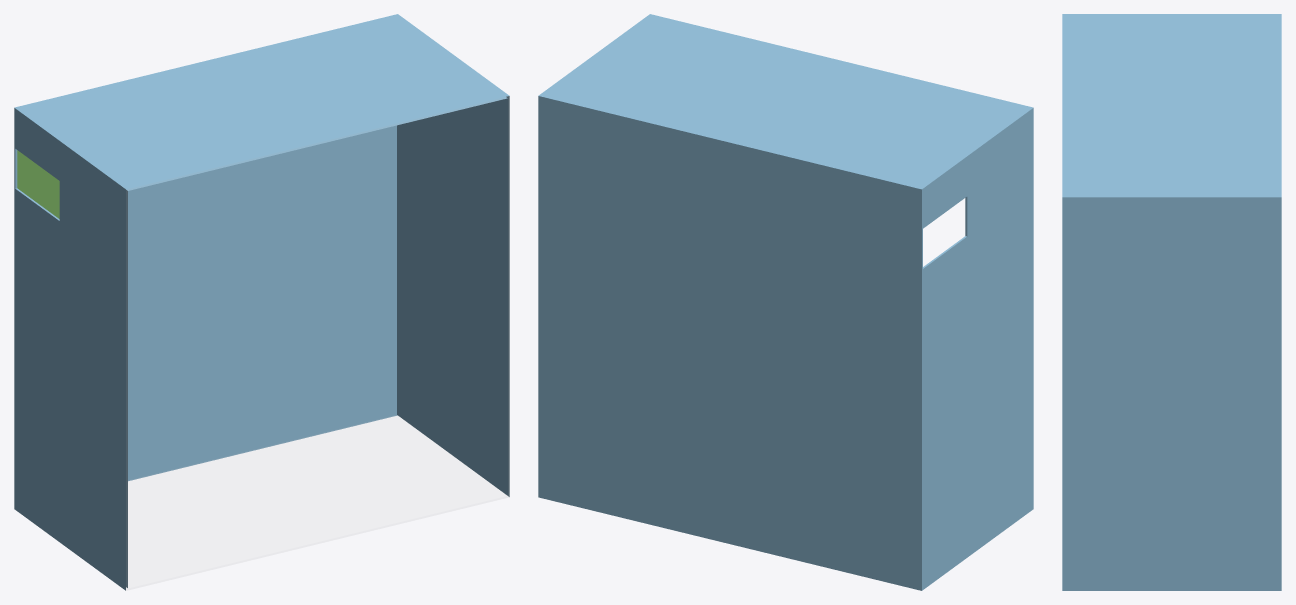
File: Walls_with_markings.obj
3 renders of one model, left to right at view 1: azimuth 30°, elevation 25°; view 2: azimuth 150°, elevation 25°; view 3: azimuth 270°, elevation 25°, orthographic. The views are drawn at different scales.
Visible parts, largest first — view 1: mesh9, mesh13, mesh15, mesh11, mesh5, mesh10, mesh17, mesh8; view 2: mesh18, mesh13, mesh15; view 3: mesh17, mesh15.
Part boxes in pixels (x1,y1,x2,y2): mesh9: [128, 125, 396, 480]; mesh13: [14, 108, 125, 590]; mesh15: [14, 14, 509, 189]; mesh11: [397, 98, 507, 495]; mesh5: [17, 150, 59, 218]; mesh10: [126, 97, 507, 190]; mesh17: [402, 96, 509, 496]; mesh8: [126, 190, 127, 587]; mesh18: [538, 96, 921, 590]; mesh13: [922, 108, 1033, 590]; mesh15: [538, 14, 1033, 189]; mesh17: [1062, 197, 1281, 590]; mesh15: [1062, 14, 1281, 197].
Size of the model in its own units: 10 by 10 by 5.05.
